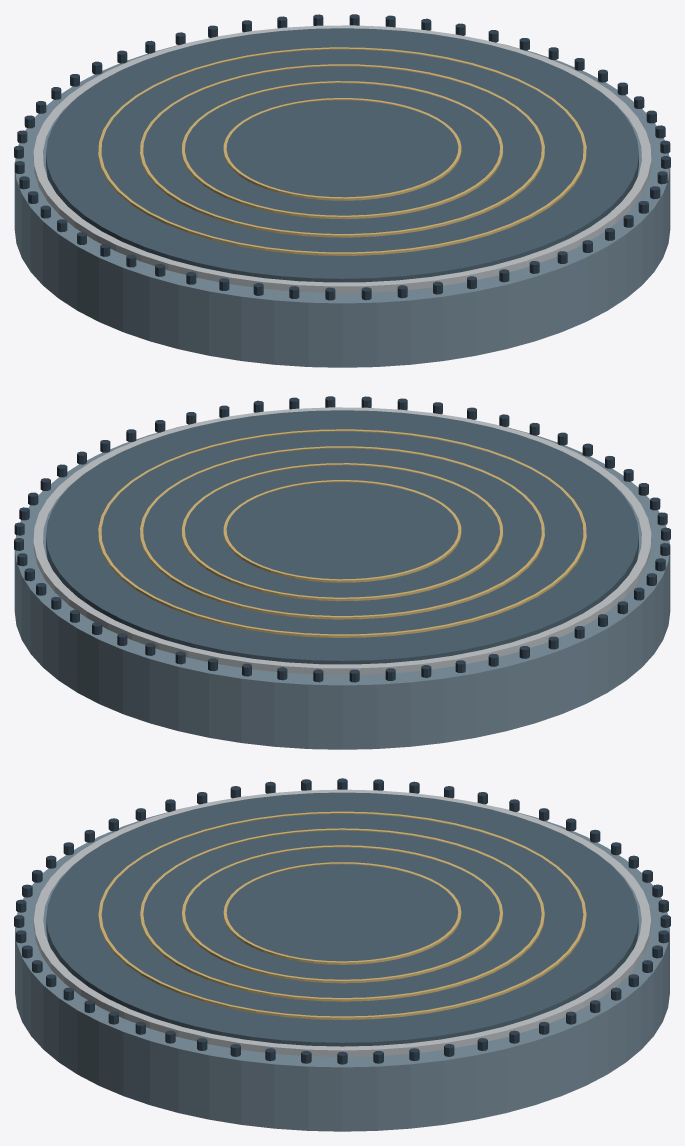
The model's file is 08_L77_BulkCopperPolishingPlaten.glb.
3 renders of one model, top to bottom at view 1: azimuth 30°, elevation 25°; view 2: azimuth 150°, elevation 25°; view 3: azimuth 270°, elevation 25°, orthographic.
Parts seen in each view (by area): view 1: BulkCopperPolishingPlaten_Node_0006, BulkCopperPolishingPlaten_Node_0000, BulkCopperPolishingPlaten_Node_0001, BulkCopperPolishingPlaten_Node_0063, BulkCopperPolishingPlaten_Node_0064, BulkCopperPolishingPlaten_Node_0065, BulkCopperPolishingPlaten_Node_0066; view 2: BulkCopperPolishingPlaten_Node_0006, BulkCopperPolishingPlaten_Node_0000, BulkCopperPolishingPlaten_Node_0001, BulkCopperPolishingPlaten_Node_0063, BulkCopperPolishingPlaten_Node_0064, BulkCopperPolishingPlaten_Node_0065, BulkCopperPolishingPlaten_Node_0066; view 3: BulkCopperPolishingPlaten_Node_0006, BulkCopperPolishingPlaten_Node_0000, BulkCopperPolishingPlaten_Node_0001, BulkCopperPolishingPlaten_Node_0063, BulkCopperPolishingPlaten_Node_0064, BulkCopperPolishingPlaten_Node_0065, BulkCopperPolishingPlaten_Node_0066.
Boxes of the visible parts, x1=… form: BulkCopperPolishingPlaten_Node_0006: x1=46, y1=28, x2=638, y2=282; BulkCopperPolishingPlaten_Node_0000: x1=14, y1=43, x2=670, y2=367; BulkCopperPolishingPlaten_Node_0001: x1=33, y1=25, x2=651, y2=292; BulkCopperPolishingPlaten_Node_0063: x1=98, y1=47, x2=586, y2=255; BulkCopperPolishingPlaten_Node_0064: x1=140, y1=64, x2=544, y2=237; BulkCopperPolishingPlaten_Node_0065: x1=181, y1=81, x2=503, y2=219; BulkCopperPolishingPlaten_Node_0066: x1=223, y1=98, x2=461, y2=200; BulkCopperPolishingPlaten_Node_0006: x1=46, y1=410, x2=638, y2=664; BulkCopperPolishingPlaten_Node_0000: x1=14, y1=425, x2=670, y2=749; BulkCopperPolishingPlaten_Node_0001: x1=33, y1=407, x2=651, y2=674; BulkCopperPolishingPlaten_Node_0063: x1=98, y1=429, x2=586, y2=637; BulkCopperPolishingPlaten_Node_0064: x1=140, y1=446, x2=544, y2=619; BulkCopperPolishingPlaten_Node_0065: x1=181, y1=463, x2=503, y2=601; BulkCopperPolishingPlaten_Node_0066: x1=223, y1=480, x2=461, y2=582; BulkCopperPolishingPlaten_Node_0006: x1=46, y1=792, x2=638, y2=1046; BulkCopperPolishingPlaten_Node_0000: x1=15, y1=807, x2=669, y2=1131; BulkCopperPolishingPlaten_Node_0001: x1=33, y1=789, x2=651, y2=1056; BulkCopperPolishingPlaten_Node_0063: x1=98, y1=811, x2=586, y2=1019; BulkCopperPolishingPlaten_Node_0064: x1=140, y1=828, x2=544, y2=1001; BulkCopperPolishingPlaten_Node_0065: x1=182, y1=845, x2=502, y2=983; BulkCopperPolishingPlaten_Node_0066: x1=223, y1=862, x2=461, y2=964.
Bounding box in the file's own units: 3.15 × 0.428 × 3.15.
